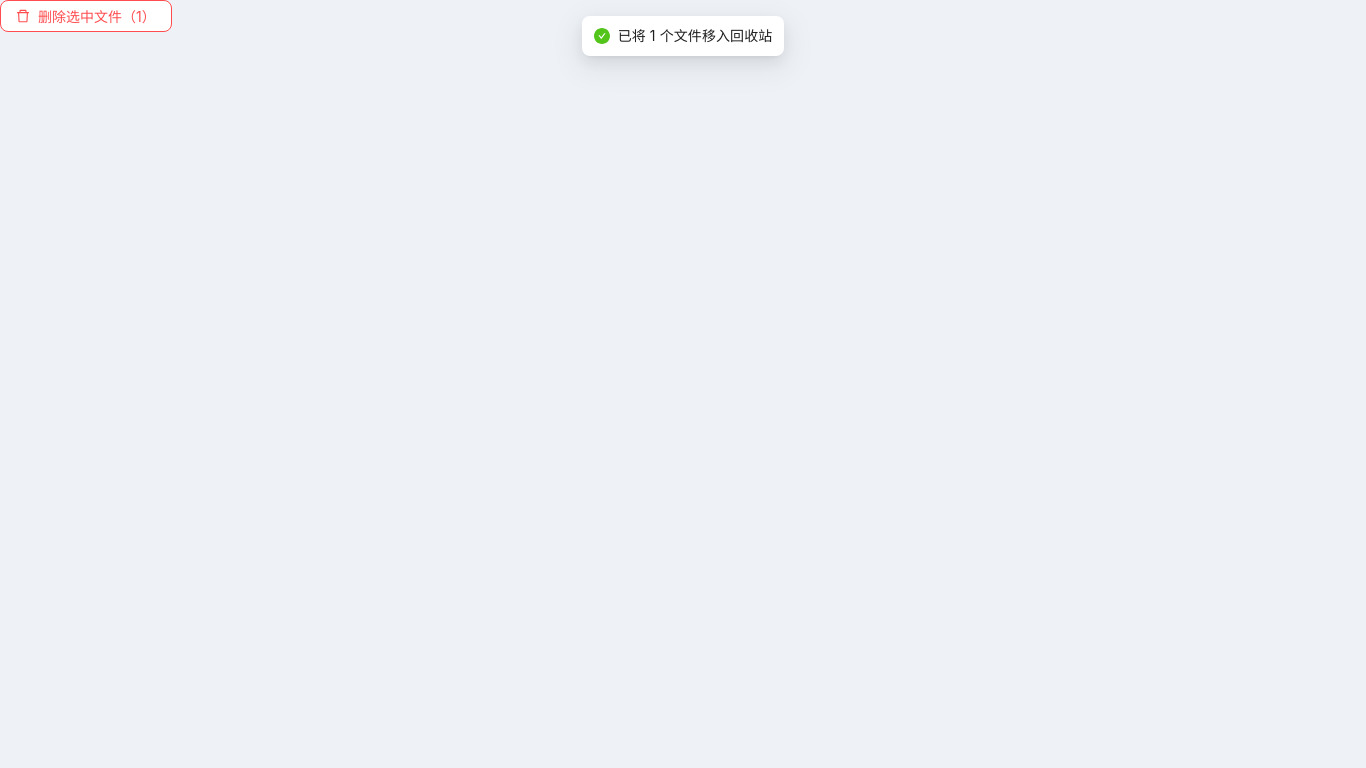
Scenario: Direct file deletion › never deletes a file when impact loading fails and permits retry after recovery
Later steps or results of the test are not shown.
Click the button "删除选中文件（1）" at {"x": 86, "y": 16}, box [0,0,172,32]
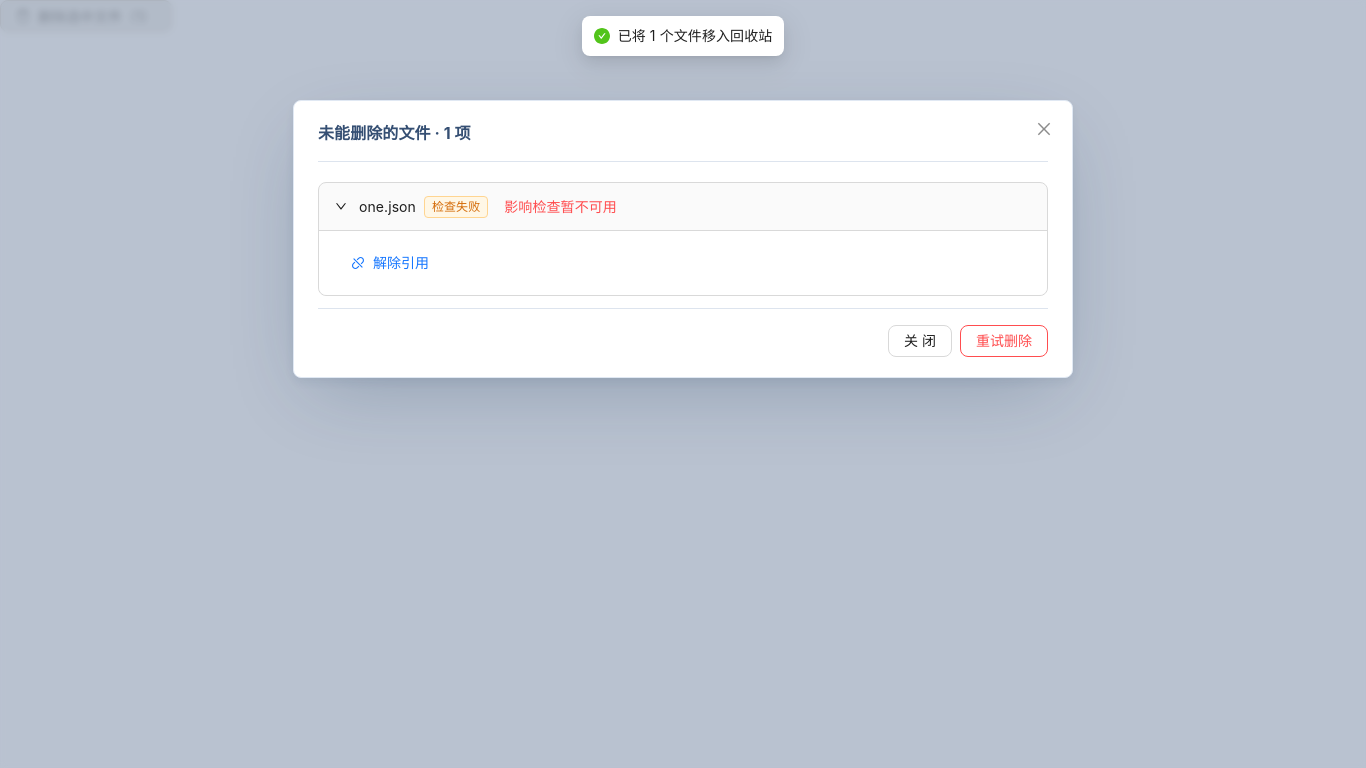
Now the text "影响检查暂不可用" is shown, box [504,198,617,214]
